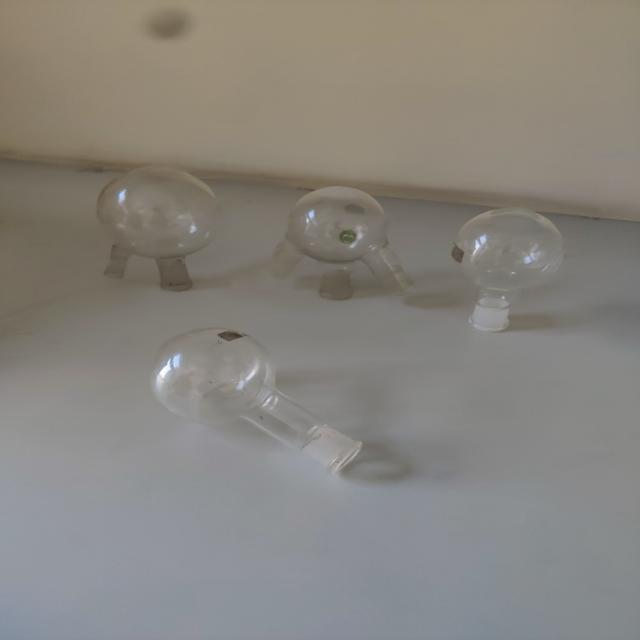Round_Bottom_Flask_Borosilicate_Glass_1_Neck: (137, 311, 400, 491), (450, 175, 576, 345)
Round_Bottom_Flask_Borosilicate_Glass_2_Neck: (71, 146, 249, 300)
Round_Bottom_Flask_Borosilicate_Glass_3_Neck: (246, 156, 435, 318)
